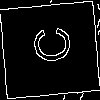C: (25, 25, 72, 65)
